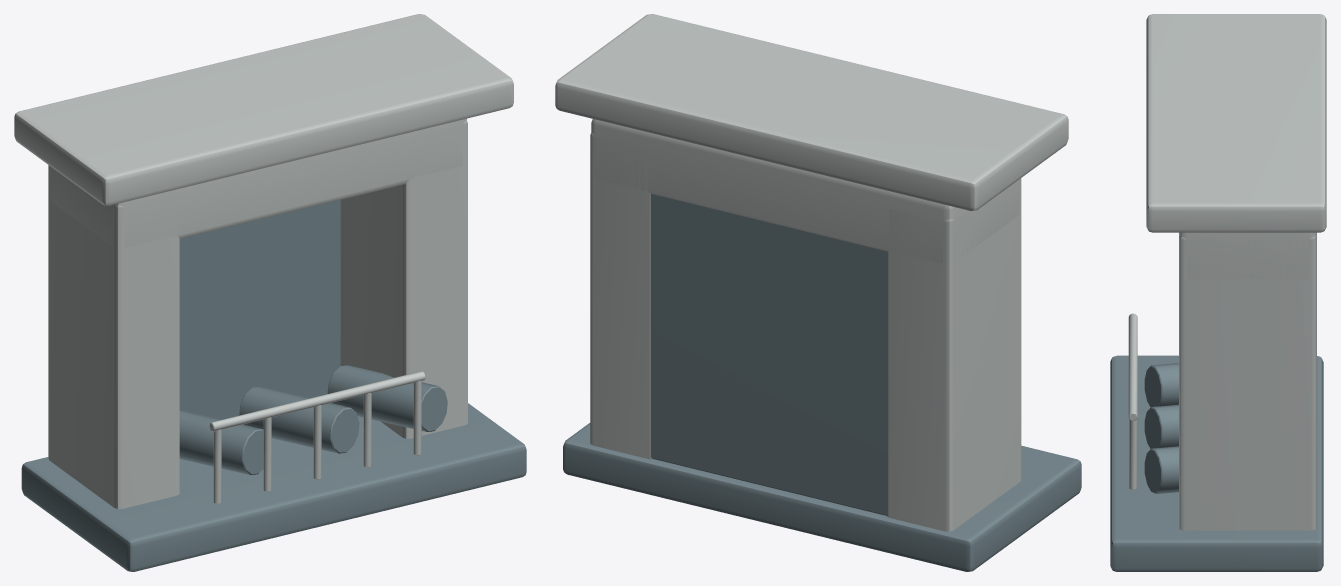
The model's file is fireplace.glb.
The picture shows the model from 3 angles, left to right: view 1: azimuth 30°, elevation 25°; view 2: azimuth 150°, elevation 25°; view 3: azimuth 270°, elevation 25°; orthographic projection. The views are drawn at different scales.
Visible parts, largest first — view 1: mantel_shelf, mantel_pier, hearth, firebox_back, mantel_pier.001, lintel, fire_log.001, fire_log.002, fire_log, grate_top, fire_grate.001, fire_grate.004 (+3 smaller); view 2: firebox_back, mantel_shelf, mantel_pier, lintel, hearth, mantel_pier.001; view 3: mantel_shelf, mantel_pier.001, hearth, lintel, fire_log.002, fire_log, fire_log.001, grate_top, fire_grate.004.
Part boxes in pixels (left/top/right/bottom): mantel_shelf: left=14, top=14, right=513, bottom=205; mantel_pier: left=48, top=165, right=179, bottom=508; hearth: left=21, top=403, right=526, bottom=571; firebox_back: left=179, top=200, right=340, bottom=419; mantel_pier.001: left=340, top=120, right=467, bottom=438; lintel: left=50, top=118, right=466, bottom=247; fire_log.001: left=239, top=386, right=359, bottom=453; fire_log.002: left=327, top=365, right=447, bottom=431; fire_log: left=179, top=410, right=263, bottom=474; grate_top: left=209, top=371, right=425, bottom=431; fire_grate.001: left=263, top=417, right=271, bottom=491; fire_grate.004: left=413, top=380, right=421, bottom=455; firebox_back: left=651, top=194, right=887, bottom=515; mantel_shelf: left=555, top=14, right=1068, bottom=210; mantel_pier: left=887, top=178, right=1021, bottom=531; lintel: left=591, top=119, right=1019, bottom=263; hearth: left=563, top=423, right=1081, bottom=571; mantel_pier.001: left=590, top=132, right=653, bottom=459; mantel_shelf: left=1146, top=14, right=1326, bottom=232; mantel_pier.001: left=1179, top=236, right=1316, bottom=530; hearth: left=1110, top=355, right=1323, bottom=571; lintel: left=1179, top=232, right=1316, bottom=279; fire_log.002: left=1144, top=446, right=1178, bottom=493; fire_log: left=1144, top=363, right=1178, bottom=407; fire_log.001: left=1144, top=404, right=1178, bottom=448; grate_top: left=1128, top=313, right=1137, bottom=420; fire_grate.004: left=1129, top=419, right=1136, bottom=489.
Size of the model in its own units: 1.4 by 1.25 by 0.66.
